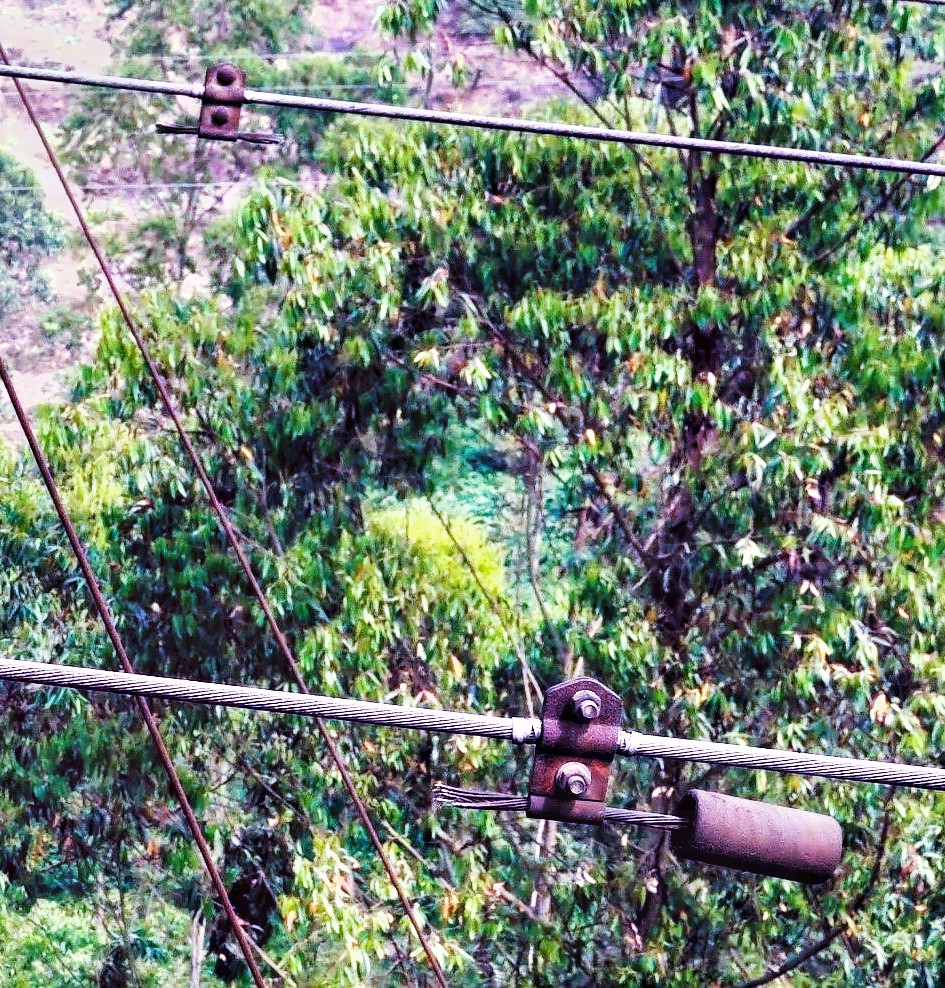Damage of shockproof hammer: (421, 668, 856, 891), (140, 53, 296, 156)
